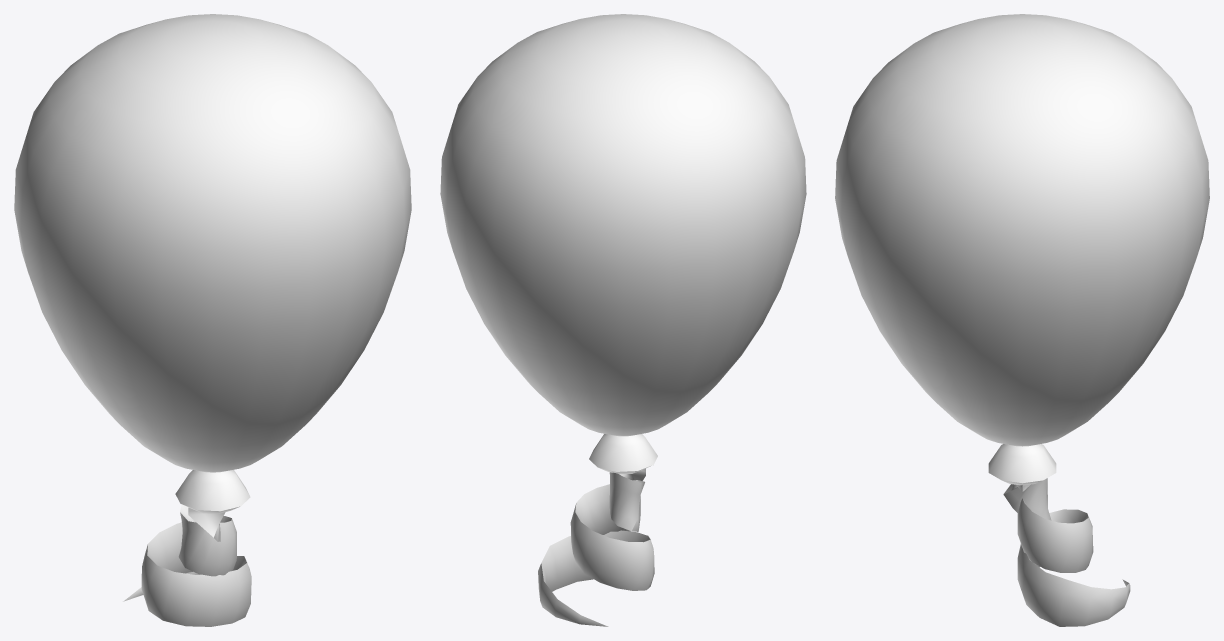
Rendered from item_balloon.glb.
3 views of the same model, side by side, from view 1: azimuth 30°, elevation 25°; view 2: azimuth 150°, elevation 25°; view 3: azimuth 270°, elevation 25° (orthographic). The views are drawn at different scales.
Visible parts, largest first — view 1: item_balloon; view 2: item_balloon; view 3: item_balloon.
Boxes of the visible parts, x1=… form: item_balloon: x1=14, y1=14, x2=411, y2=626; item_balloon: x1=440, y1=14, x2=806, y2=626; item_balloon: x1=835, y1=14, x2=1209, y2=626.
Bounding box in the file's own units: 3.36 × 5.61 × 3.36.
Materials: 1 (1 with a texture image).
